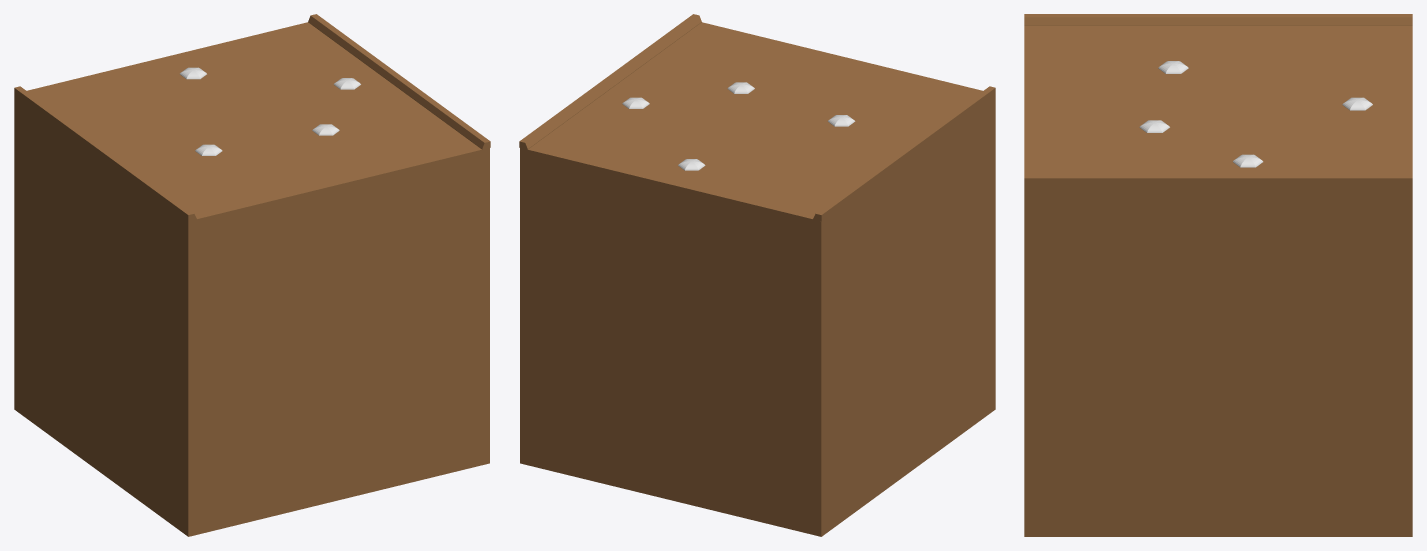
Rendered from dirt-road-1-transformed.glb.
3 views of the same model, side by side, from view 1: azimuth 30°, elevation 25°; view 2: azimuth 150°, elevation 25°; view 3: azimuth 270°, elevation 25° (orthographic). The views are drawn at different scales.
Visible parts, largest first — view 1: Cube.001, Sphere.001; view 2: Cube.001, Sphere.001; view 3: Cube.001, Sphere.001.
Part boxes in pixels (left/top/right/bottom): Cube.001: left=14, top=14, right=490, bottom=536; Sphere.001: left=180, top=67, right=360, bottom=155; Cube.001: left=519, top=14, right=995, bottom=536; Sphere.001: left=622, top=82, right=855, bottom=170; Cube.001: left=1024, top=14, right=1412, bottom=536; Sphere.001: left=1139, top=61, right=1372, bottom=167.
Bounding box in the file's own units: 2 × 2.04 × 2.
